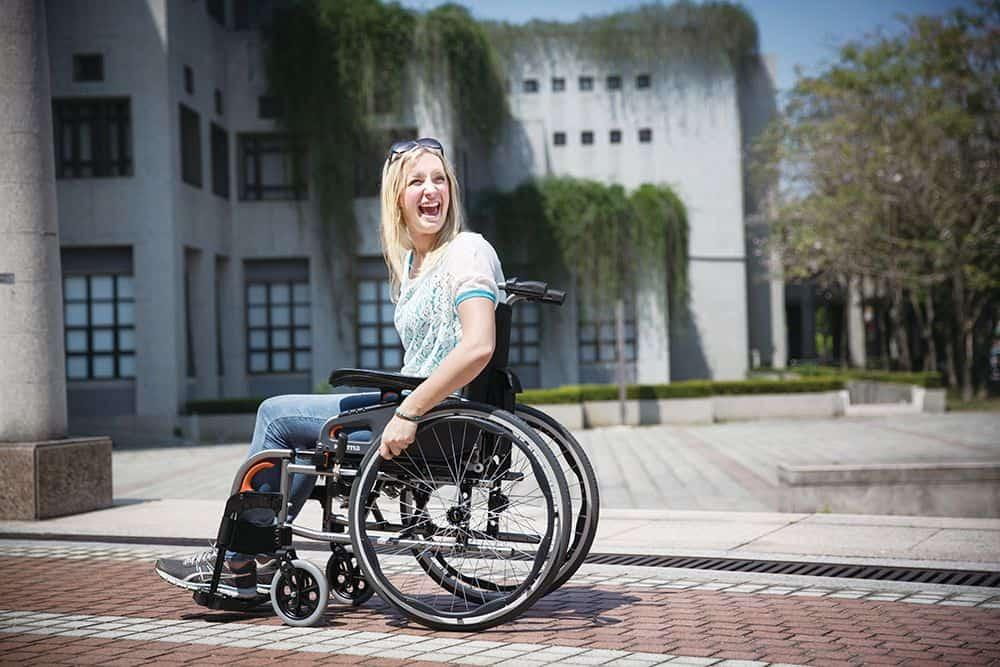wheelchair: (154, 137, 602, 632)
